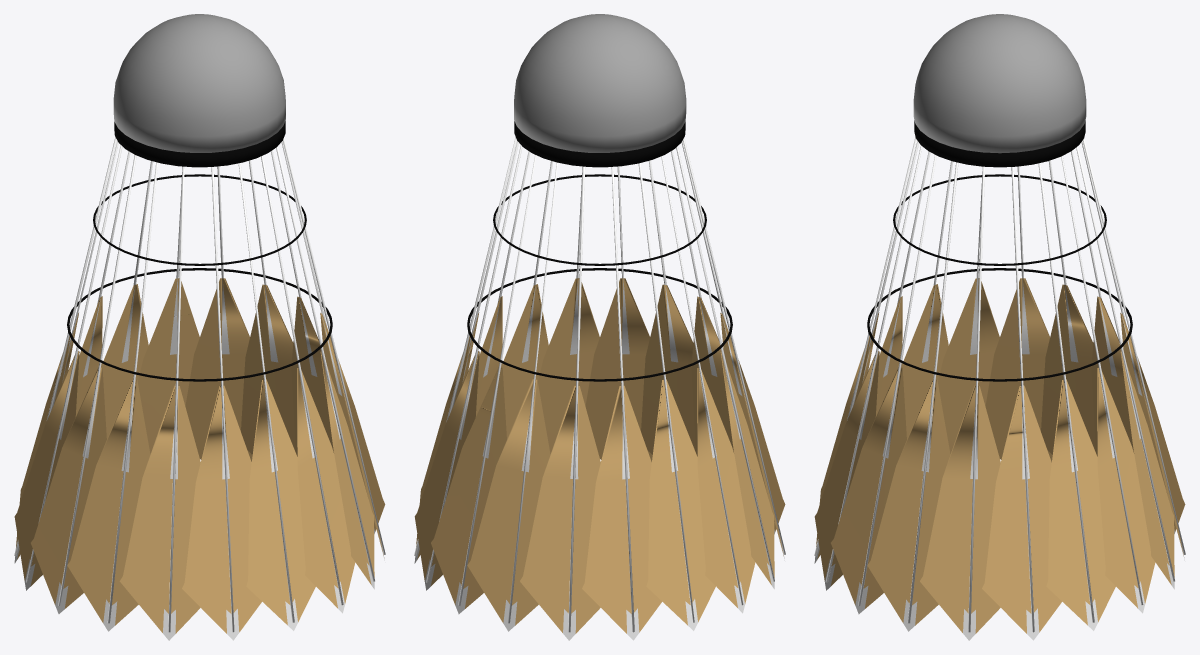
Rendered from Badminton1.glb.
3 renders of one model, left to right at view 1: azimuth 30°, elevation 25°; view 2: azimuth 150°, elevation 25°; view 3: azimuth 270°, elevation 25°, orthographic.
Visible parts, largest first — view 1: Torus; view 2: Torus; view 3: Torus.
Part boxes in pixels (box(x1,y1,x2,y2)): Torus: box(14, 14, 385, 640); Torus: box(414, 14, 785, 640); Torus: box(814, 14, 1185, 640).
Bounding box in the file's own units: 2.28 × 3.69 × 2.29.
